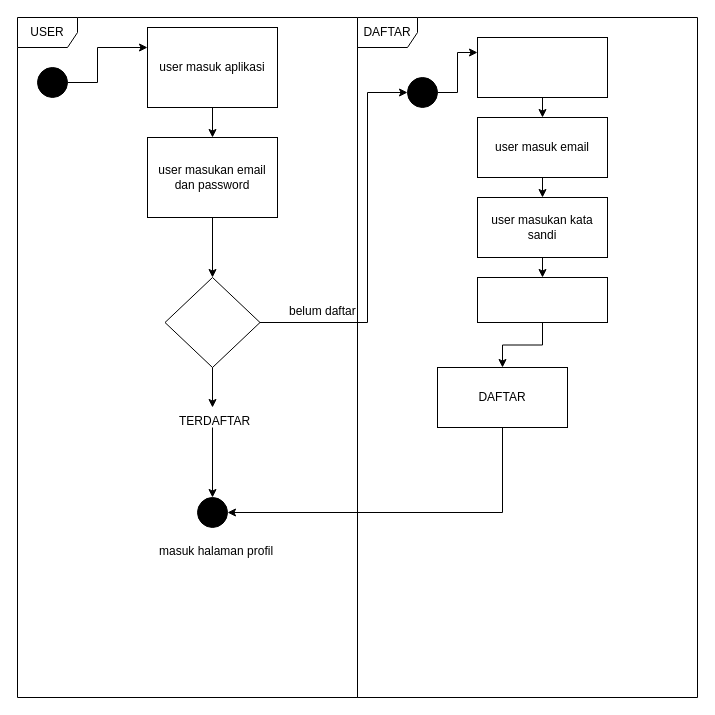
This 715x715 diagram has some shape labels left out. Each missing label, with the centre of its shape:
komfirmasi kata sandi: pixel 542 299
sudah/belum terdaftar: pixel 212 322
user masukan nama: pixel 542 67
